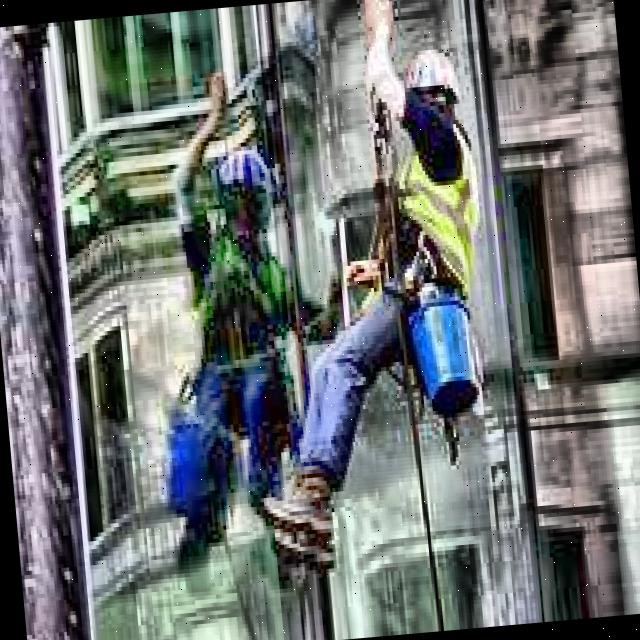helmet: (409, 47, 464, 131)
